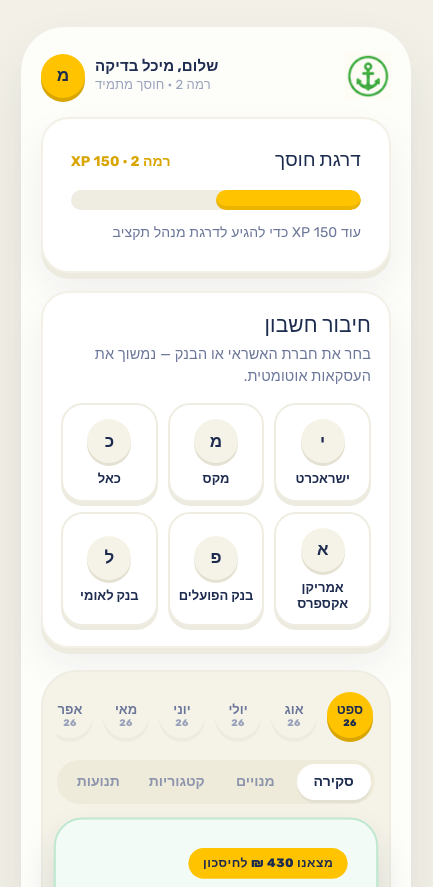
Scenario: HomePage › sums the fetched transactions per vendor category after switching to the cats tab
Click the button "קטגוריות".
click(177, 782)  # box [140,764,214,800]
(page scrolled)
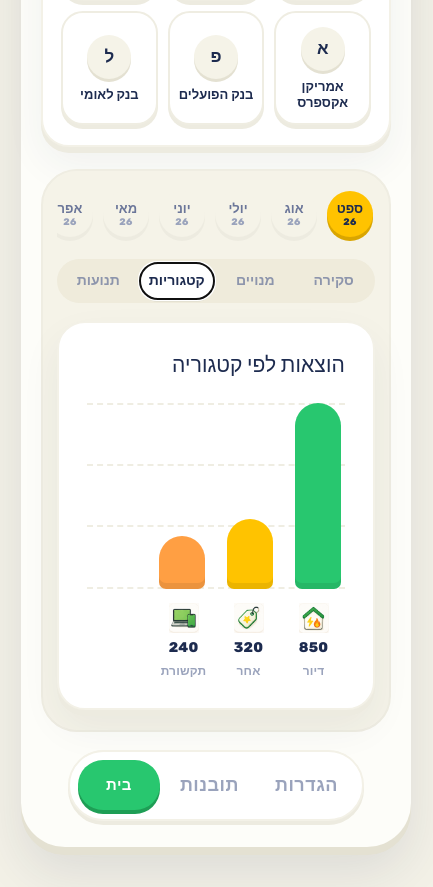
Expected: the text "דיור" is shown, [303,662,324,680]
Expected: the text "תקשורת" is shown, [161,662,206,680]
Expected: the text "אחר" is shown, [236,662,260,680]
